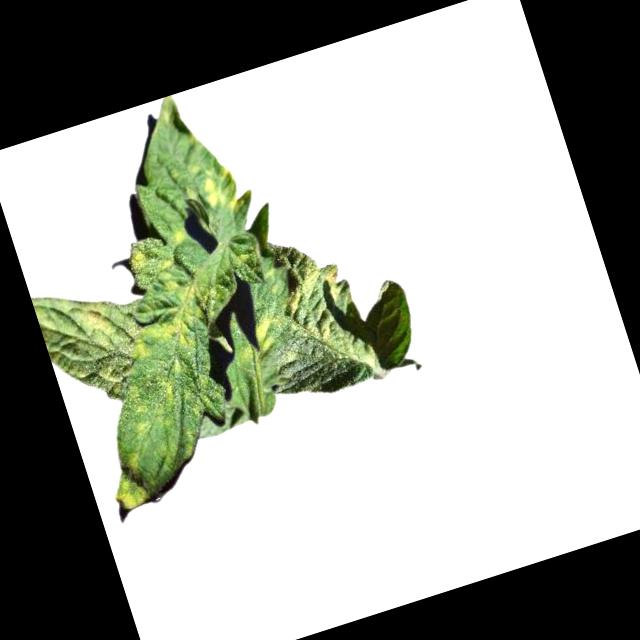Leaf_Mold: (111, 264, 221, 371), (273, 256, 360, 351), (100, 447, 157, 514), (193, 158, 248, 221), (74, 293, 127, 345), (245, 314, 288, 363)
